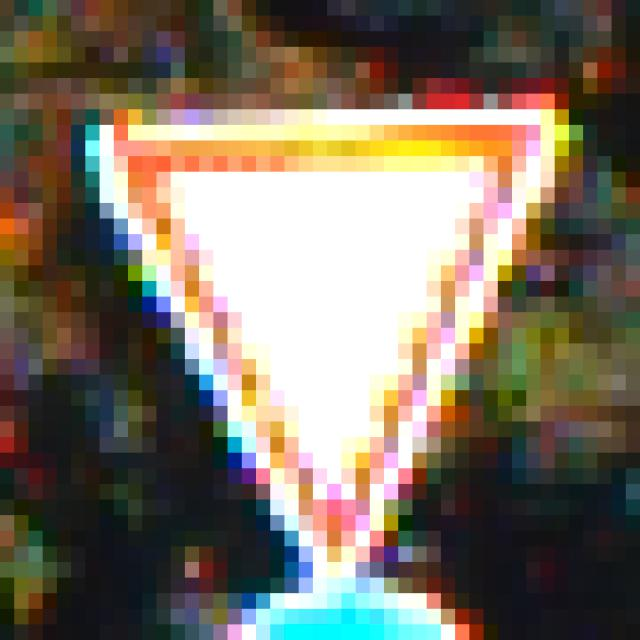Give Way: (72, 79, 570, 563)
